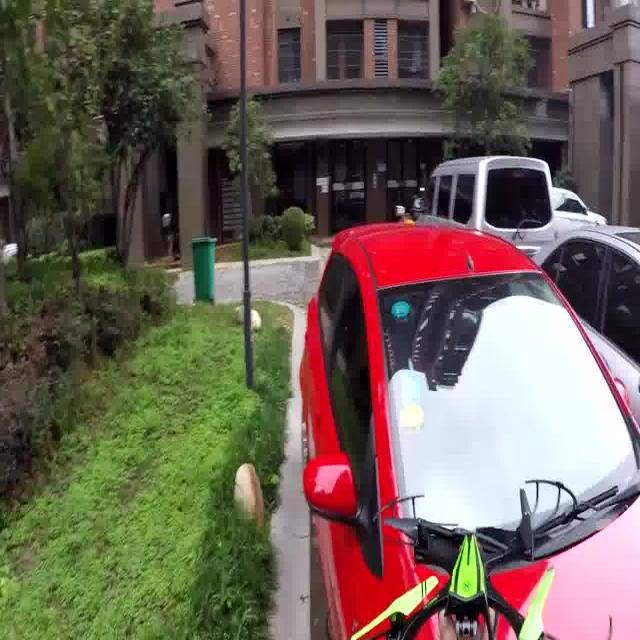Drone_FW: (365, 479, 611, 640)
